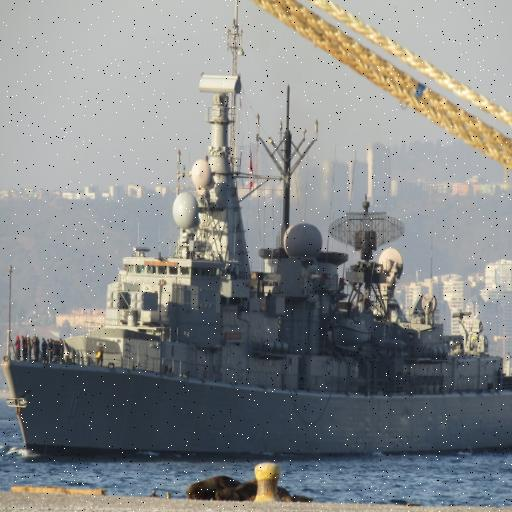Fragata: (3, 71, 512, 467)
